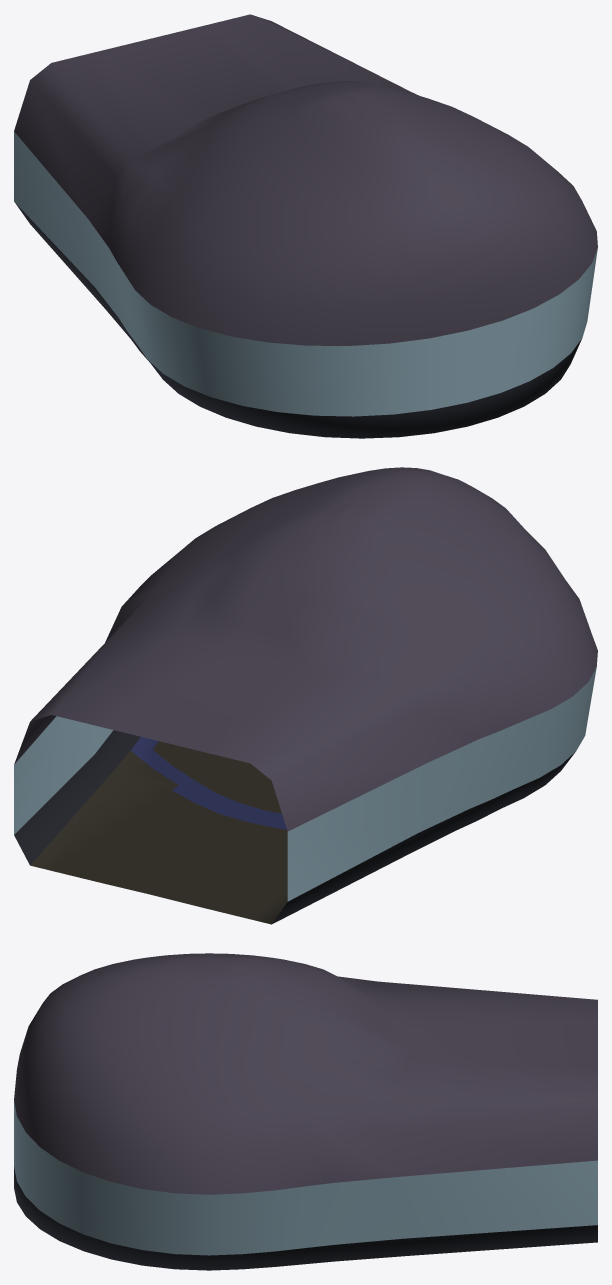
Rendered from VS5_Panopticon.FBX.
3 renders of one model, top to bottom at view 1: azimuth 30°, elevation 25°; view 2: azimuth 150°, elevation 25°; view 3: azimuth 270°, elevation 25°, orthographic. The views are drawn at different scales.
Parts seen in each view (by area): view 1: Panopticon_Mk2; view 2: Panopticon_Mk2; view 3: Panopticon_Mk2.
Boxes of the visible parts, x1,y1,x2,y2 form: Panopticon_Mk2: [14, 14, 597, 438]; Panopticon_Mk2: [14, 467, 597, 924]; Panopticon_Mk2: [14, 953, 597, 1270].
Bounding box in the file's own units: 363 × 198 × 472.
